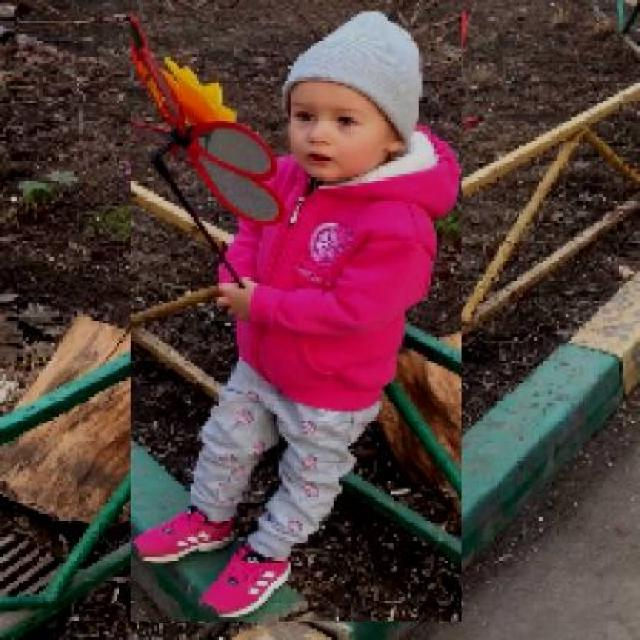child: (129, 11, 462, 623)
